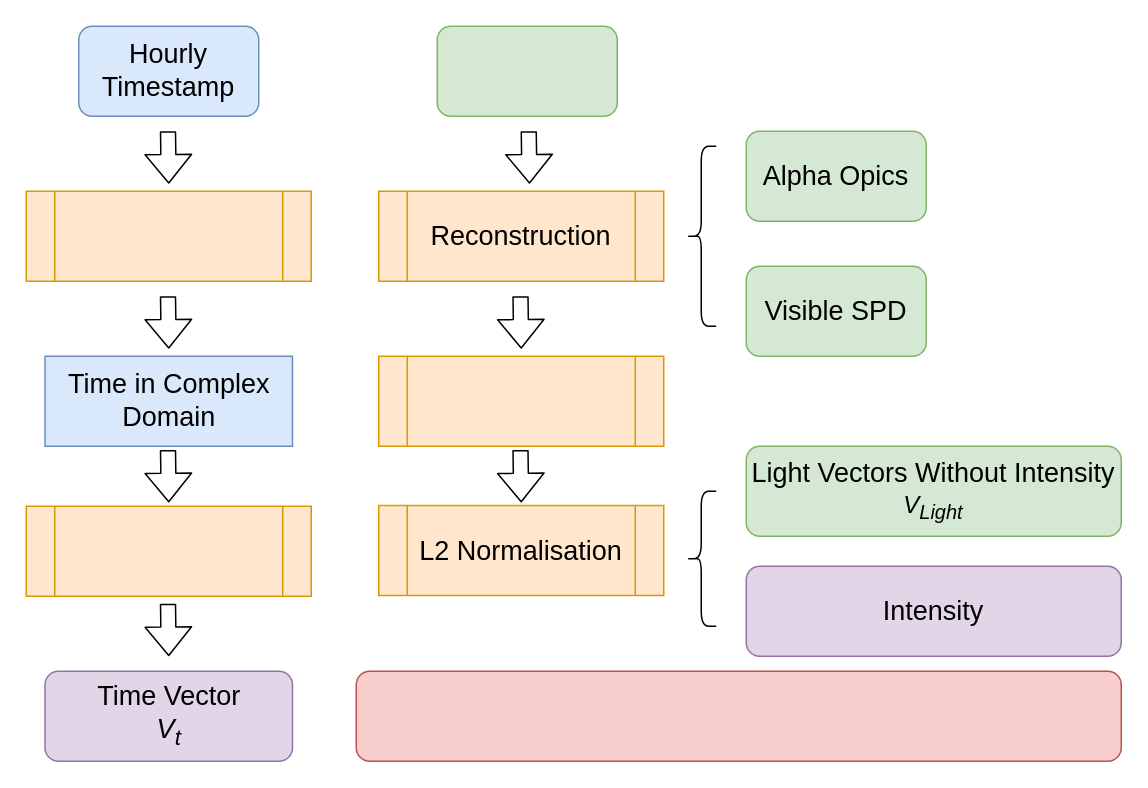
Some shapes in this 1148 by 788 pixel diagram are drawn without their labels. The centre of each missing label's shape, as x and y in pixels:
Analysis Ready Features: { V t , V Light , Intensity}: [738,715]
Complex Circular Mapping: [168,235]
Euler's Formula: [168,550]
Logarithmic Transformation: [520,400]
Raw Sensor Data: [526,70]
